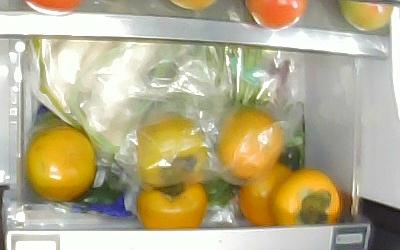persimmon: (22, 125, 96, 200), (271, 167, 343, 226), (135, 176, 206, 230)
persimmon_vinyl: (135, 113, 207, 184), (215, 111, 283, 178)
